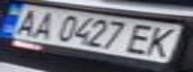0: (48, 12, 78, 43)
2: (87, 16, 112, 50)
4: (69, 15, 93, 47)
7: (103, 18, 133, 52)
A: (3, 7, 45, 37), (24, 9, 60, 39)
E: (124, 21, 163, 56)
K: (139, 25, 187, 60)
